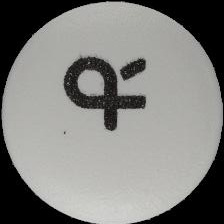10544-921: (0, 0, 224, 224)
